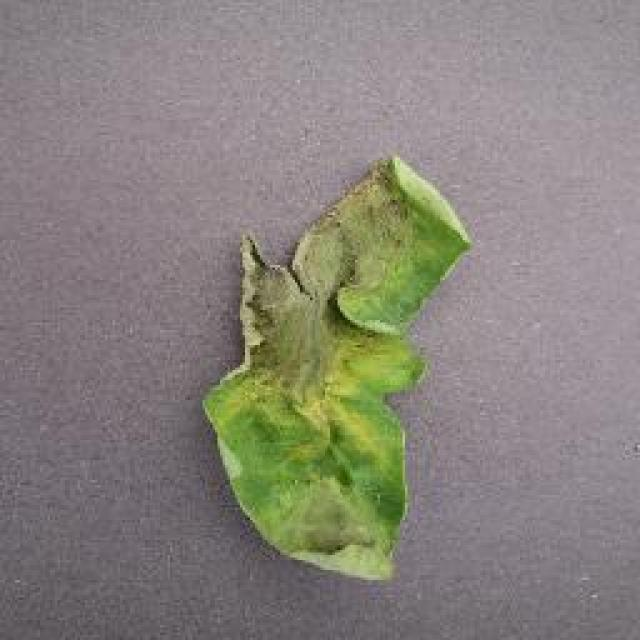Tomato late blight leaf: (203, 152, 472, 584)
